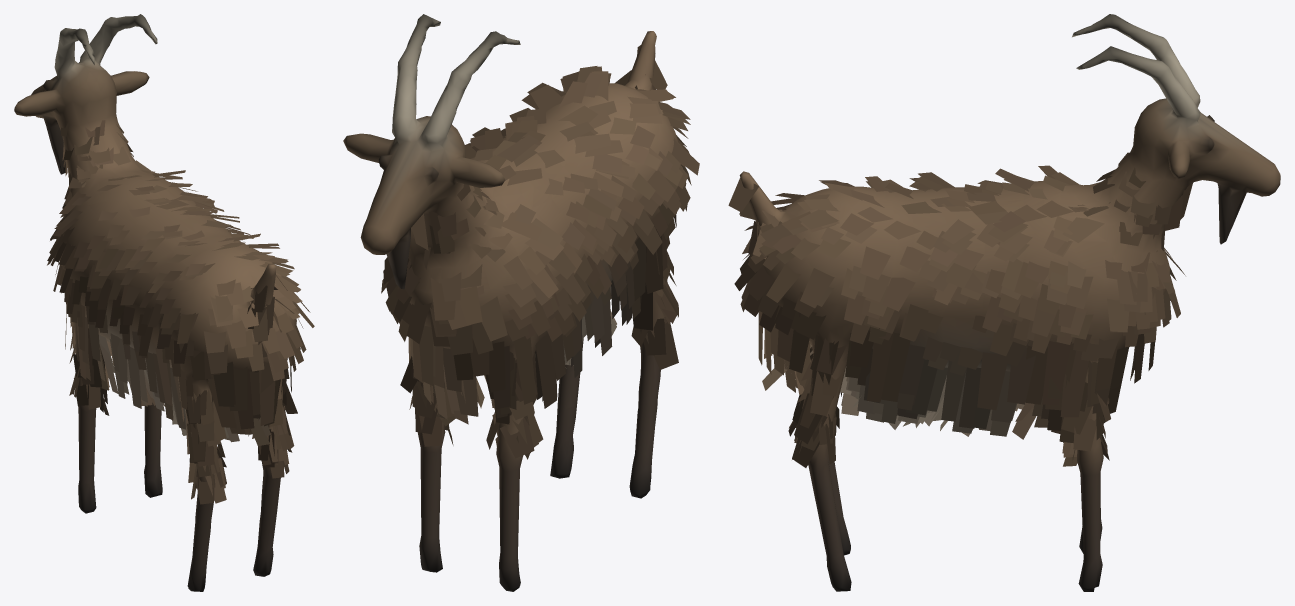
Rendered from animale_capra_1.glb.
3 views of the same model, side by side, from view 1: azimuth 30°, elevation 25°; view 2: azimuth 150°, elevation 25°; view 3: azimuth 270°, elevation 25° (orthographic). The views are drawn at different scales.
Visible parts, largest first — view 1: animale_capra_1; view 2: animale_capra_1; view 3: animale_capra_1.
Part boxes in pixels (left/top/right/bottom): animale_capra_1: left=14, top=14, right=314, bottom=591; animale_capra_1: left=343, top=14, right=699, bottom=591; animale_capra_1: left=728, top=14, right=1280, bottom=591.
Size of the model in its own units: 0.4233 by 1.23 by 1.14.
